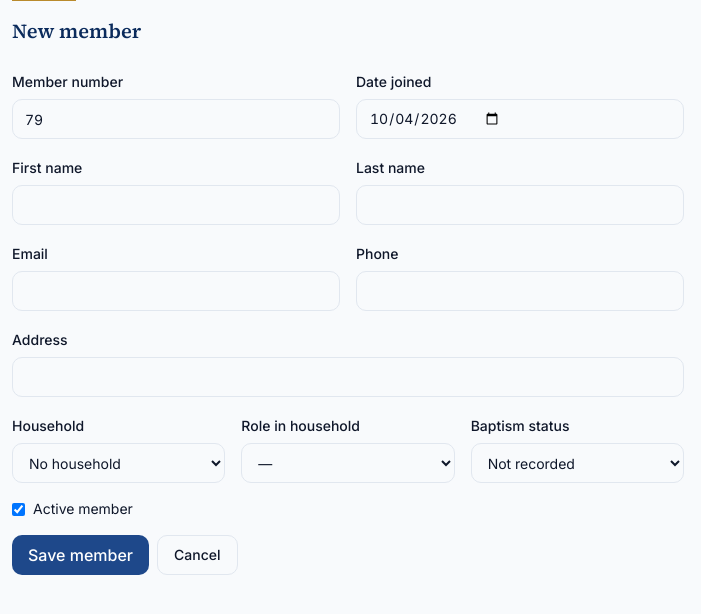
Scenario: MemberFormPage — create › shows validation errors for missing required fields
Expected: the number field labelled "Member number" is shown, [12, 99, 340, 139]
Click the button "Save member" at (81,555), box [12, 535, 149, 575]
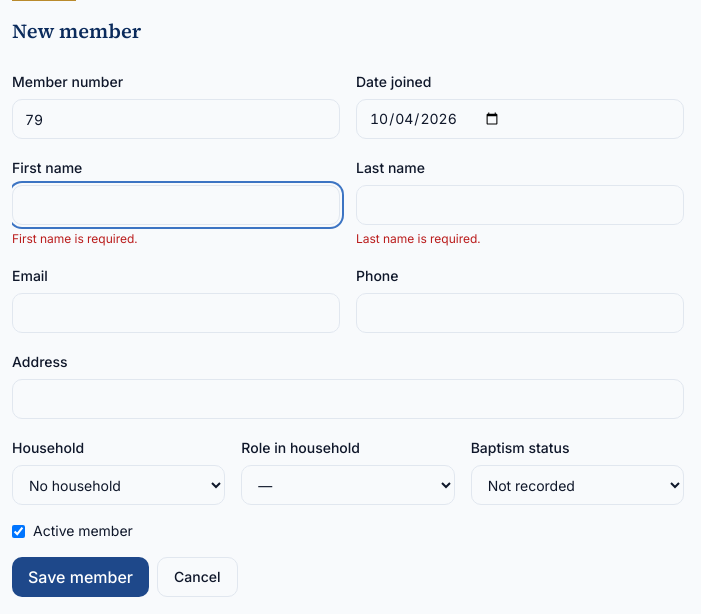
Expected: the text "First name is required." is shown, [12, 231, 138, 246]
